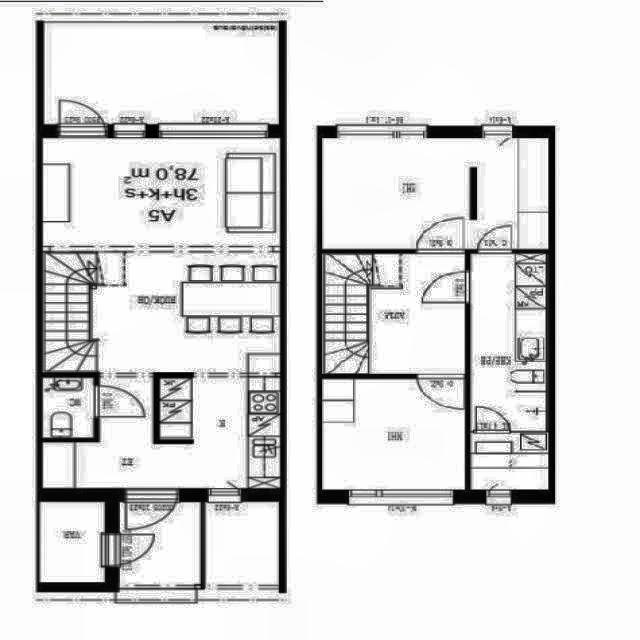room: (323, 138, 548, 249), (324, 254, 465, 374), (323, 379, 465, 489), (472, 254, 546, 430), (40, 502, 104, 582), (472, 433, 548, 489), (43, 378, 93, 437)
